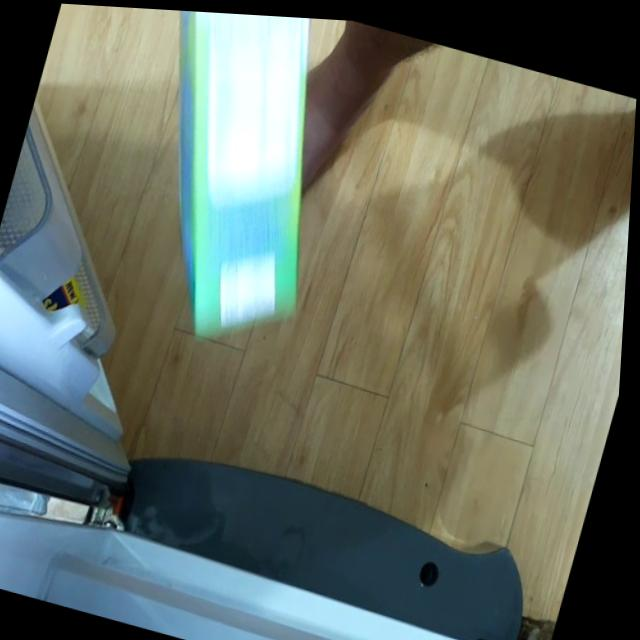milk: (90, 5, 374, 354)
